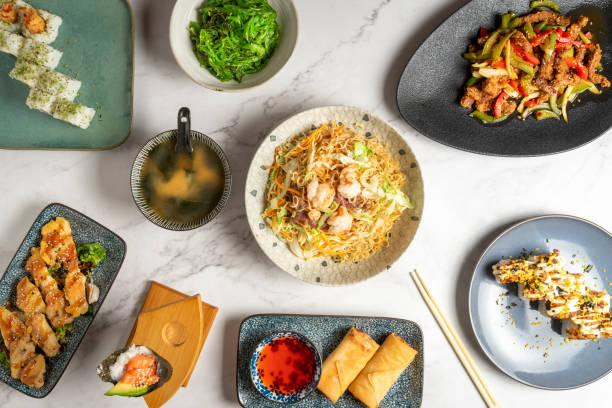Braised Crucian Carp: (399, 1, 608, 157), (245, 105, 422, 285), (469, 215, 610, 390), (0, 202, 124, 398), (3, 0, 135, 153), (236, 312, 424, 406)
